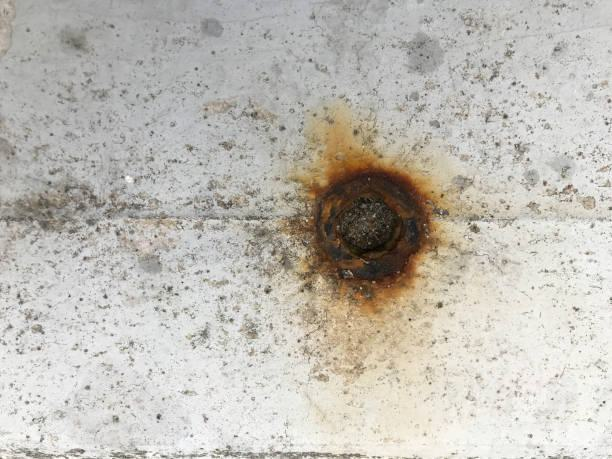Corrosion: (290, 122, 451, 313)
